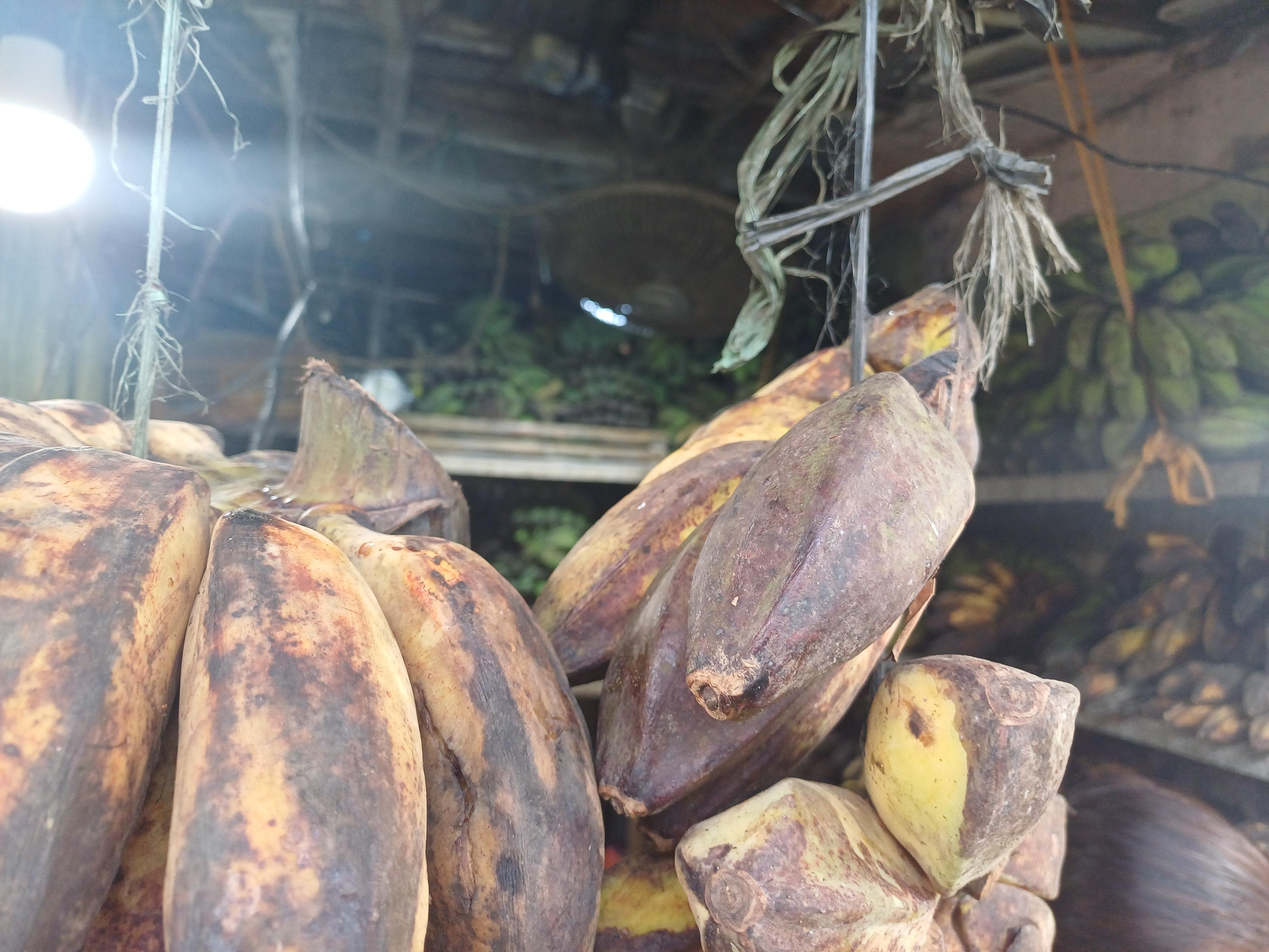ripe: (0, 435, 603, 952)
underripe: (529, 347, 979, 854), (674, 655, 1079, 952)
